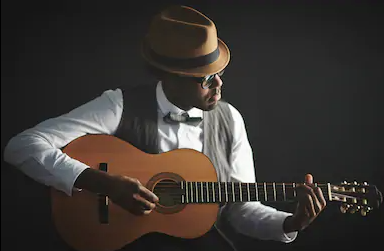fretboard: (181, 182, 330, 203)
